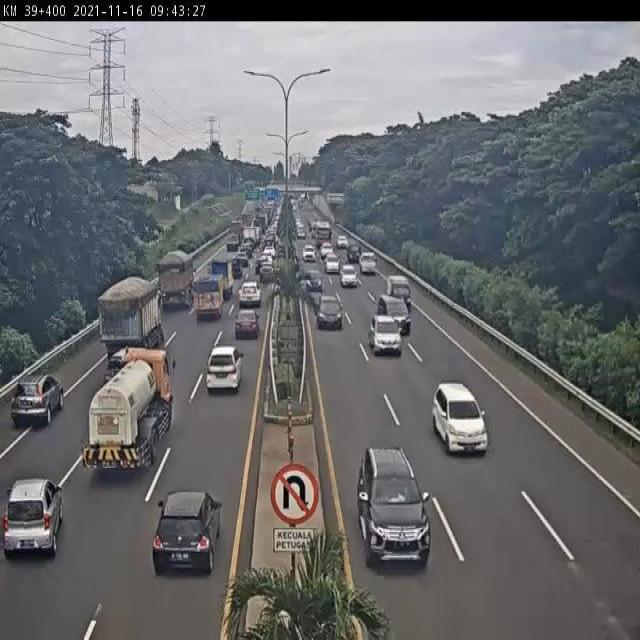car: (364, 452, 420, 545), (162, 491, 211, 592), (1, 483, 58, 565), (6, 371, 61, 438), (436, 381, 483, 452), (206, 349, 238, 403), (381, 296, 410, 331), (371, 316, 398, 351), (234, 313, 256, 343), (321, 294, 341, 326), (239, 284, 260, 308), (358, 249, 376, 272), (304, 269, 321, 292), (340, 262, 356, 286), (343, 237, 359, 260), (318, 236, 332, 256), (261, 261, 272, 284), (326, 255, 340, 273), (305, 248, 317, 265)
small truck: (193, 270, 221, 322), (208, 259, 234, 300), (387, 272, 411, 307)
truck-m-: (81, 345, 177, 472), (96, 273, 168, 363), (160, 250, 193, 310)
